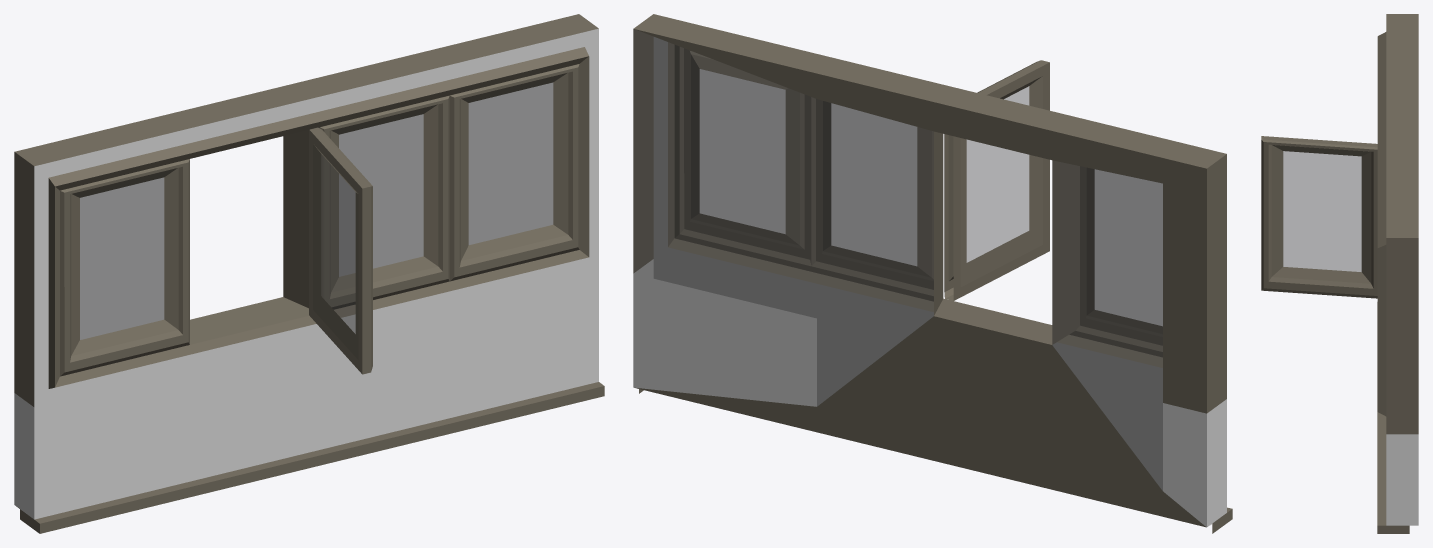
File: muur+windows.fbx
3 renders of one model, left to right at view 1: azimuth 30°, elevation 25°; view 2: azimuth 150°, elevation 25°; view 3: azimuth 270°, elevation 25°, orthographic. The views are drawn at different scales.
Visible parts, largest first — view 1: Plane; view 2: Plane; view 3: Plane.
Boxes of the visible parts, <box> form: Plane: <box>14,14,604,533</box>; Plane: <box>633,14,1232,533</box>; Plane: <box>1261,14,1418,533</box>.
Bounding box in the file's own units: 1107 × 681 × 329.
